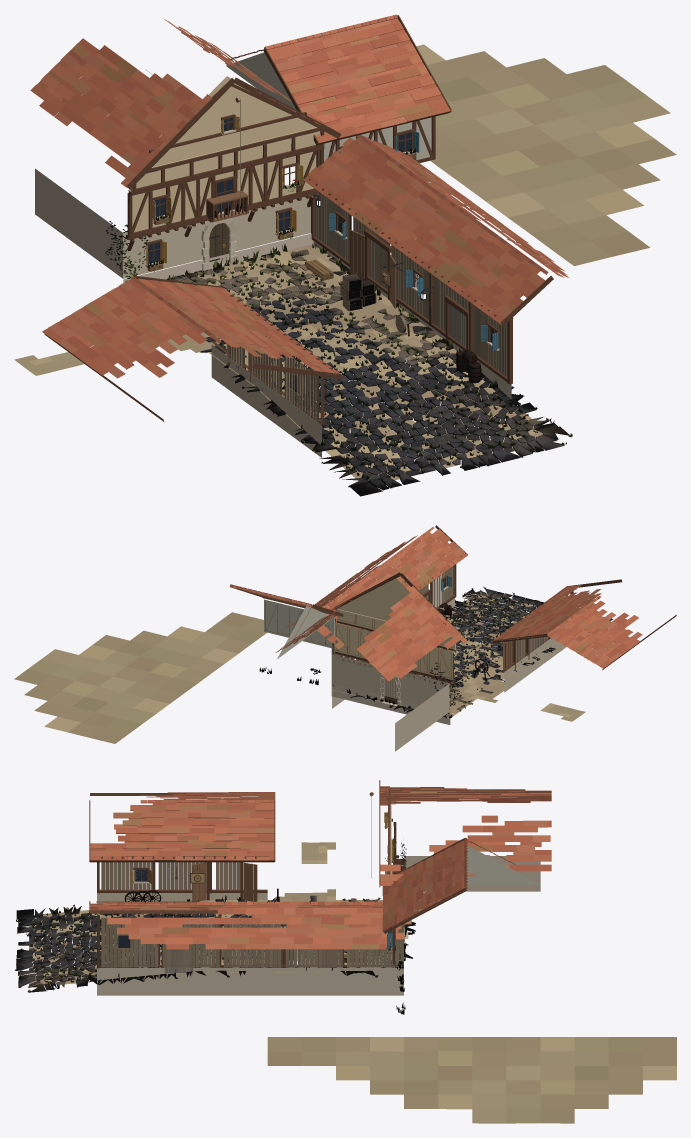
Rendered from barrio_talleres.glb.
3 views of the same model, one above another, from view 1: azimuth 30°, elevation 25°; view 2: azimuth 150°, elevation 25°; view 3: azimuth 270°, elevation 25° (orthographic). The views are drawn at different scales.
Visible parts, largest first — view 1: fijo_talleres, piezas_talleres, vegetacion_talleres; view 2: fijo_talleres, piezas_talleres, vegetacion_talleres; view 3: fijo_talleres, piezas_talleres, vegetacion_talleres.
Part boxes in pixels (bbox=[...]): fijo_talleres: bbox=[14, 14, 676, 480]; piezas_talleres: bbox=[153, 207, 570, 496]; vegetacion_talleres: bbox=[105, 148, 572, 488]; fijo_talleres: bbox=[14, 525, 676, 751]; piezas_talleres: bbox=[350, 588, 612, 712]; vegetacion_talleres: bbox=[259, 586, 548, 718]; fijo_talleres: bbox=[29, 780, 676, 1123]; piezas_talleres: bbox=[16, 888, 415, 992]; vegetacion_talleres: bbox=[15, 842, 414, 1014].
Bounding box in the file's own units: 39.57 × 11.58 × 38.87.
